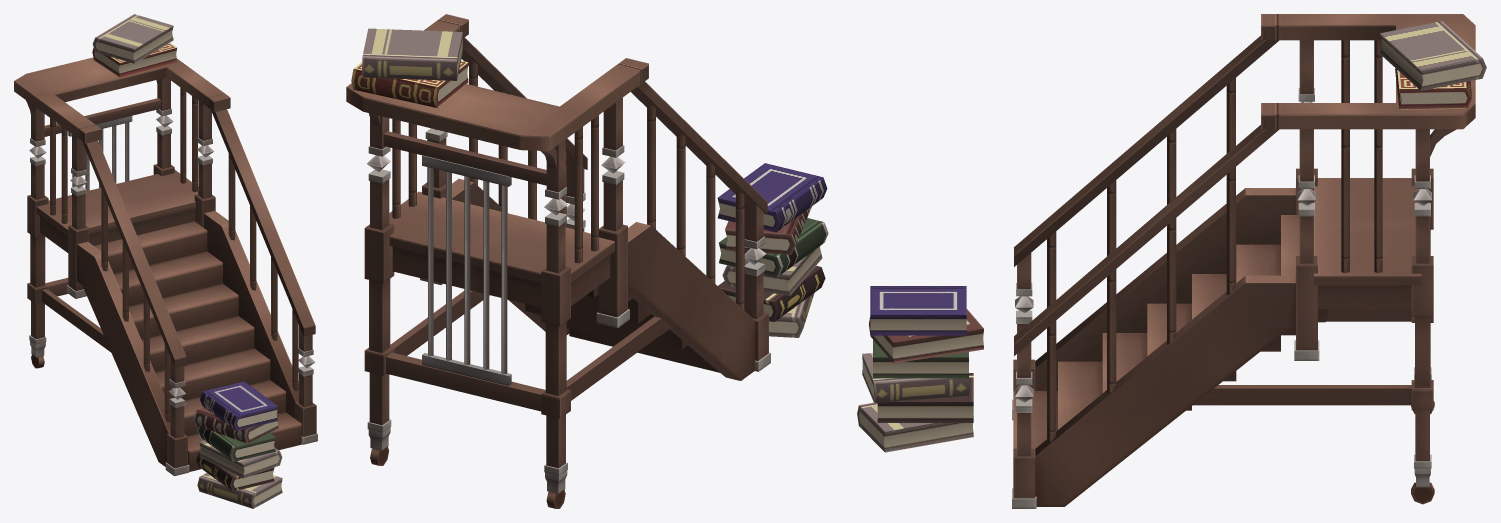
Rendered from my_wildhunt_01_stair_01.glb.
3 renders of one model, left to right at view 1: azimuth 30°, elevation 25°; view 2: azimuth 150°, elevation 25°; view 3: azimuth 270°, elevation 25°, orthographic. The views are drawn at different scales.
Visible parts, largest first — view 1: my_wildhunt_01_stair_01; view 2: my_wildhunt_01_stair_01; view 3: my_wildhunt_01_stair_01.
Boxes of the visible parts, x1,y1,x2,y2 form: my_wildhunt_01_stair_01: (14, 14, 317, 508); my_wildhunt_01_stair_01: (346, 14, 828, 508); my_wildhunt_01_stair_01: (857, 14, 1486, 508).
Bounding box in the file's own units: 0.00532 × 0.0108 × 0.014.
Materials: 1 (1 with a texture image).
